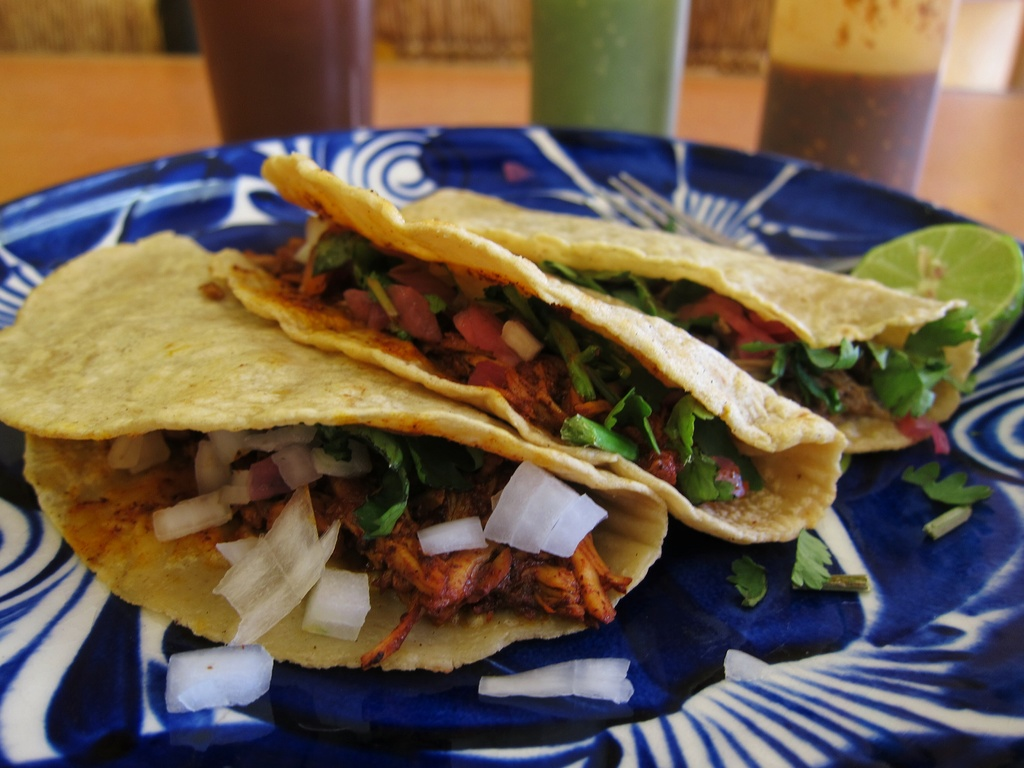taco: (0, 237, 674, 673), (199, 154, 846, 559), (391, 183, 975, 463)
